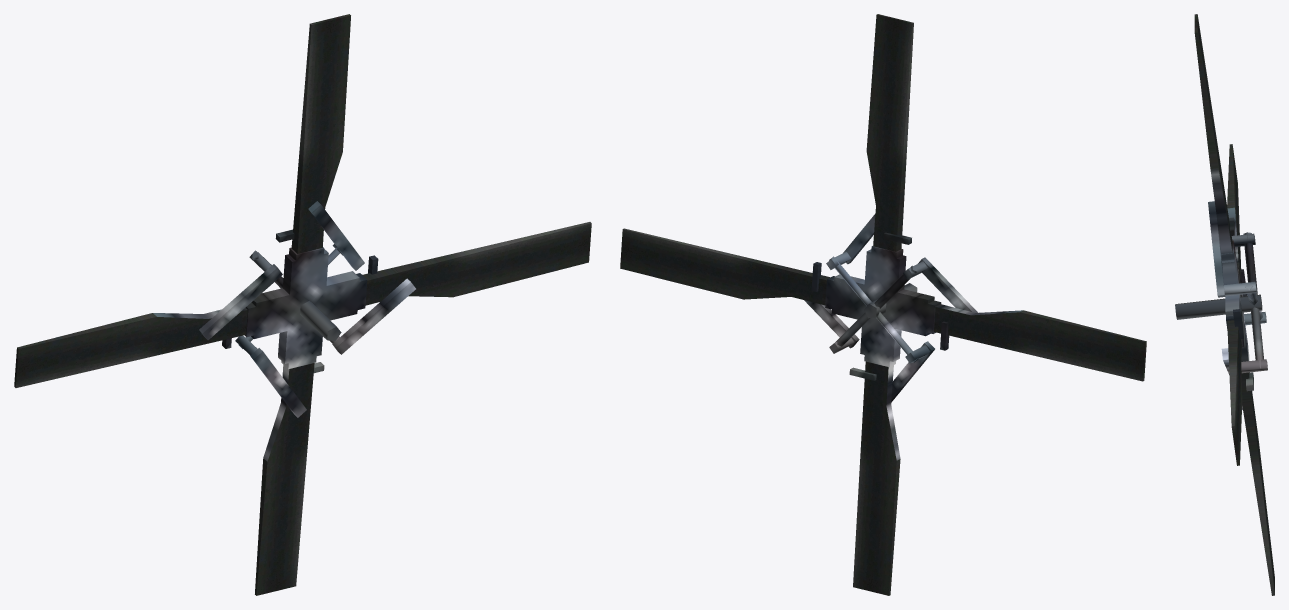
Rendered from helice_trasera.obj.
3 views of the same model, side by side, from view 1: azimuth 30°, elevation 25°; view 2: azimuth 150°, elevation 25°; view 3: azimuth 270°, elevation 25° (orthographic). The views are drawn at different scales.
Parts seen in each view (by area): view 1: uh60; view 2: uh60; view 3: uh60.
Boxes of the visible parts, x1=… form: uh60: x1=14, y1=14, x2=591, y2=595; uh60: x1=620, y1=14, x2=1146, y2=595; uh60: x1=1175, y1=14, x2=1274, y2=595.
Size of the model in its own units: 2.71 by 2.69 by 0.4273.
